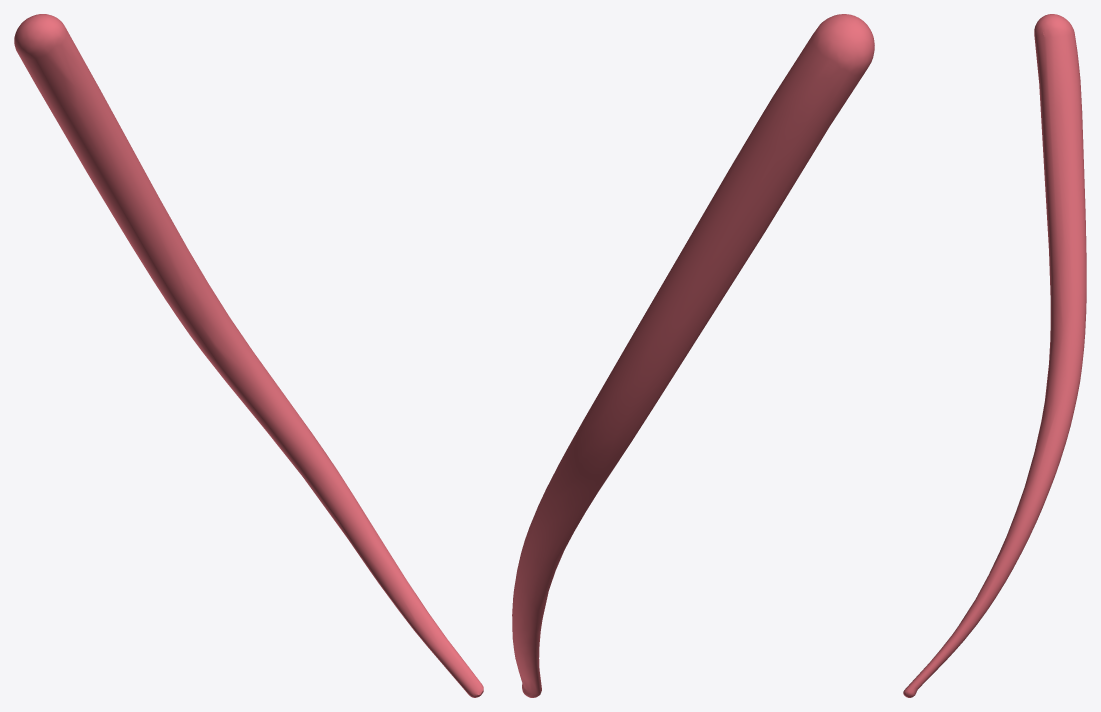
Rendered from fma68139_fj5991.glb.
3 renders of one model, left to right at view 1: azimuth 30°, elevation 25°; view 2: azimuth 150°, elevation 25°; view 3: azimuth 270°, elevation 25°, orthographic. The views are drawn at different scales.
Visible parts, largest first — view 1: FMA68139_FJ5991; view 2: FMA68139_FJ5991; view 3: FMA68139_FJ5991.
Part boxes in pixels (x1=…): FMA68139_FJ5991: x1=14, y1=14, x2=483, y2=697; FMA68139_FJ5991: x1=512, y1=14, x2=874, y2=697; FMA68139_FJ5991: x1=903, y1=14, x2=1086, y2=697.
Bounding box in the file's own units: 0.0608 × 0.1089 × 0.033.
